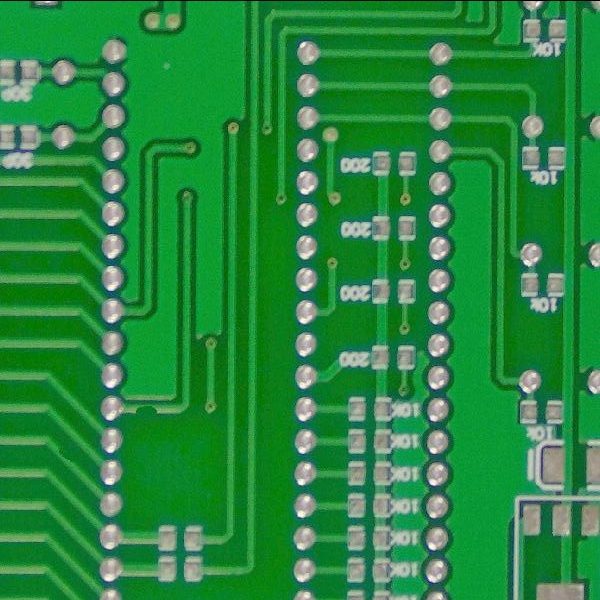mouse_bite: (130, 397, 162, 423), (57, 441, 79, 469)
